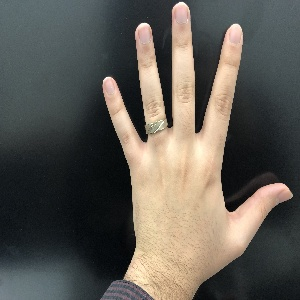hand: (103, 2, 293, 260)
